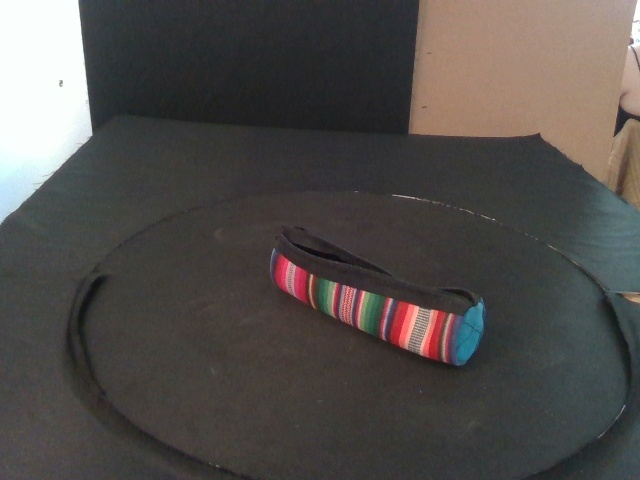pencil_case: (268, 227, 486, 367)
